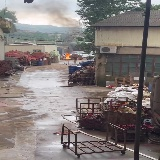fire: (65, 53, 71, 59)
